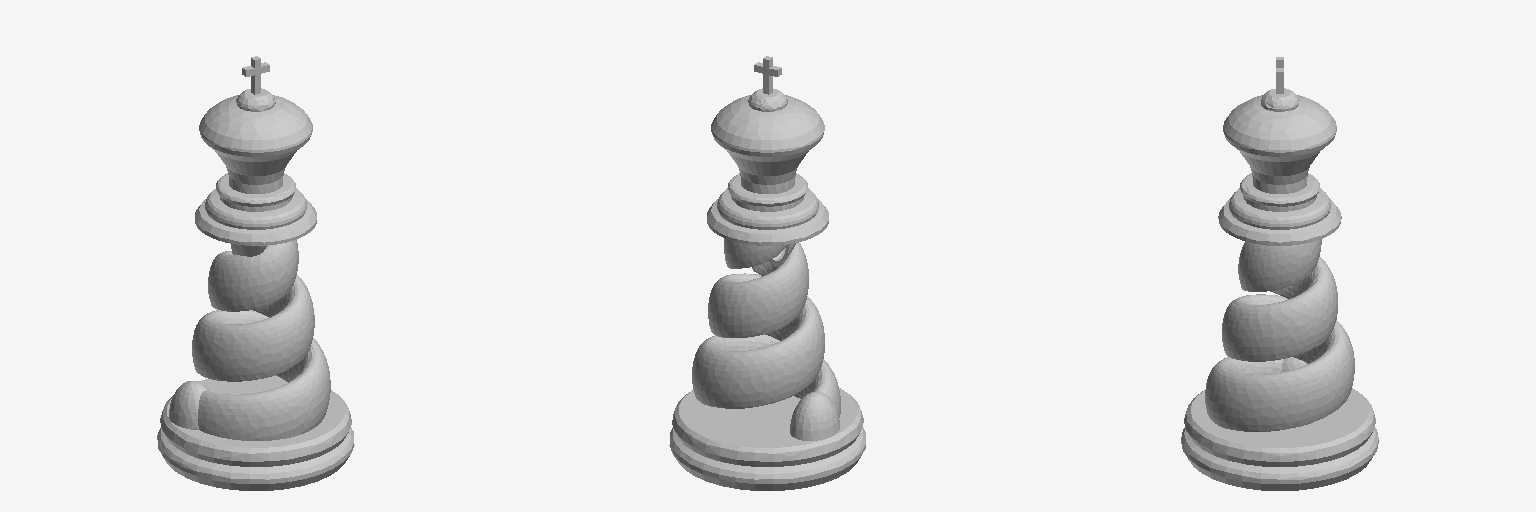
File: chess_King.obj
3 views of the same model, side by side, from view 1: azimuth 30°, elevation 25°; view 2: azimuth 150°, elevation 25°; view 3: azimuth 270°, elevation 25° (orthographic).
Visible parts, largest first — view 1: Spiral_King; view 2: Spiral_King; view 3: Spiral_King.
Part boxes in pixels (x1,y1,x2,y2): Spiral_King: (157,56,354,490); Spiral_King: (669,56,865,490); Spiral_King: (1181,57,1378,490).
Bounding box in the file's own units: 16.49 × 36.41 × 16.5.